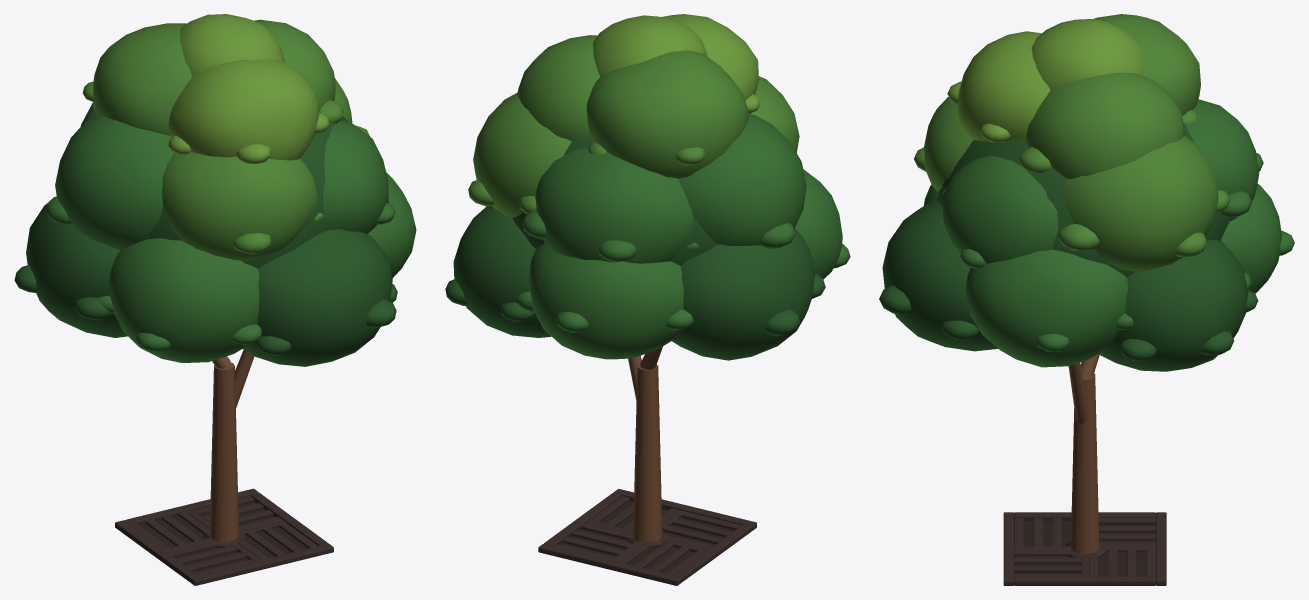
Rendered from tree.glb.
The picture shows the model from 3 angles, left to right: view 1: azimuth 30°, elevation 25°; view 2: azimuth 150°, elevation 25°; view 3: azimuth 270°, elevation 25°; orthographic projection.
Visible parts, largest first — view 1: Crown01, Crown02, Crown11, Crown21, Crown10, Crown20, Crown00, Crown12, Trunk, Crown30, Crown22, CrownCore (+12 smaller); view 2: Crown20, Crown14, Crown05, Crown00, Crown10, Crown04, Crown13, Crown22, Trunk, Crown30, Crown01, Crown21 (+11 smaller); view 3: Crown03, Crown13, Crown22, Crown04, Crown12, Crown02, Crown21, Crown30, Crown20, Crown14, Trunk, Crown05 (+17 smaller).
Part boxes in pixels (x1,y1,x2,y2): Crown01: (109, 238, 259, 362); Crown02: (243, 229, 392, 366); Crown11: (162, 152, 318, 260); Crown21: (168, 59, 318, 160); Crown10: (55, 114, 173, 249); Crown20: (93, 23, 191, 135); Crown00: (26, 203, 127, 337); Crown12: (323, 121, 388, 233); Trunk: (209, 362, 238, 542); Crown30: (180, 14, 284, 76); Crown22: (254, 19, 335, 110); CrownCore: (147, 111, 348, 268); Crown20: (586, 50, 749, 178); Crown14: (535, 147, 692, 263); Crown05: (529, 244, 683, 359); Crown00: (672, 228, 814, 360); Crown10: (678, 114, 806, 245); Crown04: (453, 205, 551, 337); Crown13: (473, 92, 571, 218); Crown22: (517, 35, 600, 141); Trunk: (633, 363, 662, 542); Crown30: (593, 15, 707, 76); Crown01: (794, 169, 842, 279); Crown21: (661, 14, 758, 100); Crown03: (966, 249, 1127, 367); Crown13: (1065, 135, 1218, 271); Crown22: (1026, 72, 1184, 178); Crown04: (1098, 240, 1248, 371); Crown12: (942, 156, 1058, 263); Crown02: (882, 199, 998, 351); Crown21: (957, 31, 1050, 141); Crown30: (1031, 18, 1143, 89); Crown20: (1094, 14, 1200, 115); Crown14: (1185, 99, 1259, 221); Trunk: (1071, 373, 1099, 553); Crown05: (1221, 184, 1281, 293).
Size of the model in its own units: 2.31 by 3.27 by 2.35.
